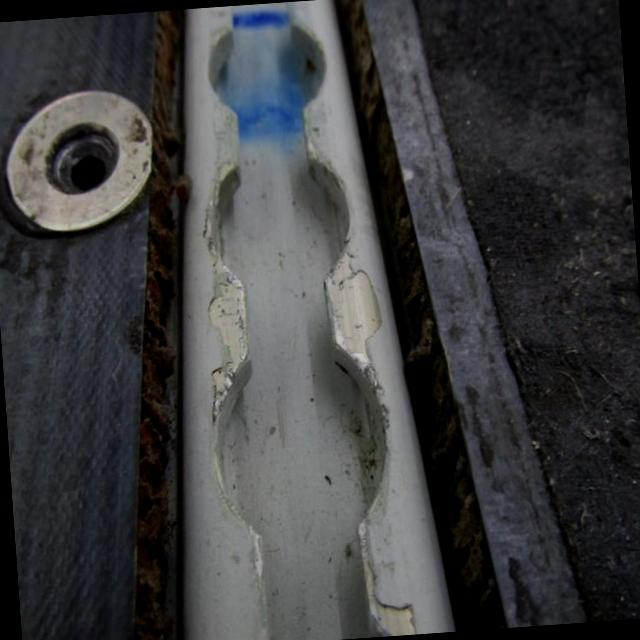Missing Fastener: (0, 76, 168, 239)
